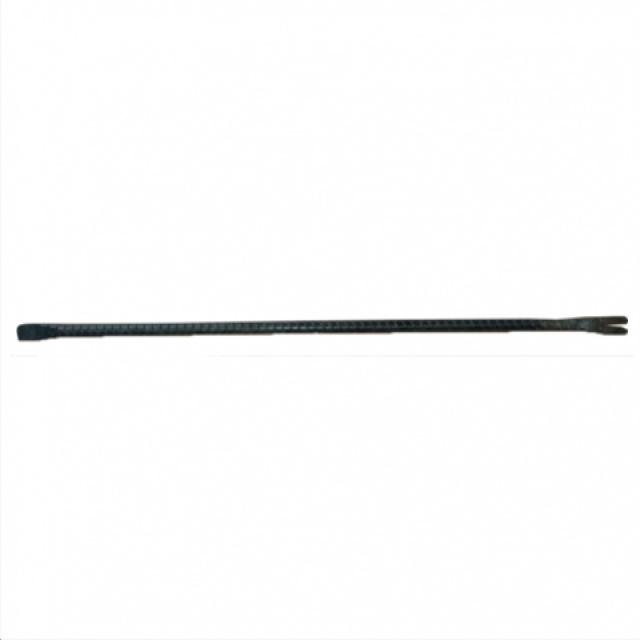Linggis: (16, 311, 631, 361)
